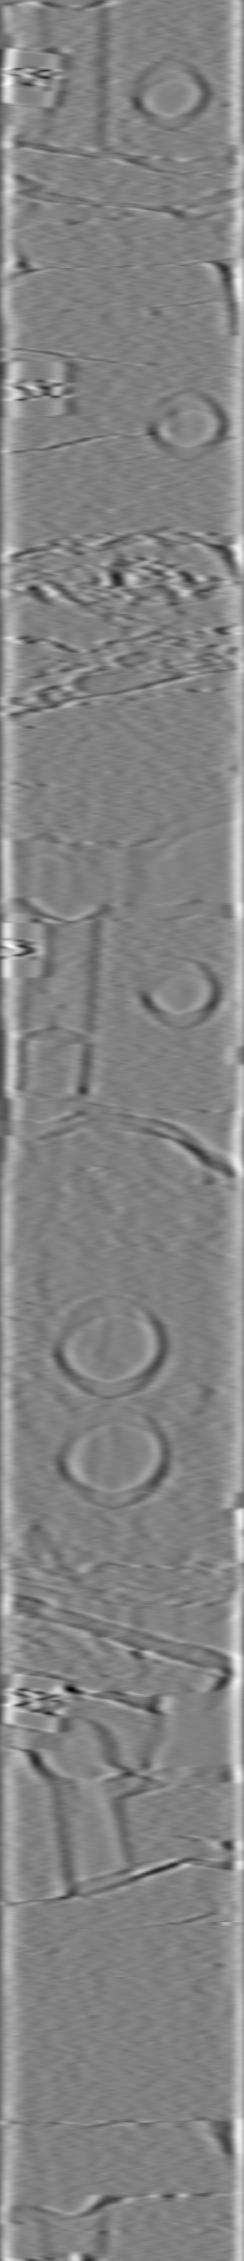hplug: (130, 944, 227, 1035), (17, 1707, 131, 1779), (137, 382, 232, 466), (123, 53, 214, 133)
scal: (46, 1289, 167, 1403), (51, 1407, 176, 1513)
vplug: (9, 910, 108, 1096), (27, 1, 113, 154), (40, 1779, 141, 1901), (35, 2187, 118, 2260)
